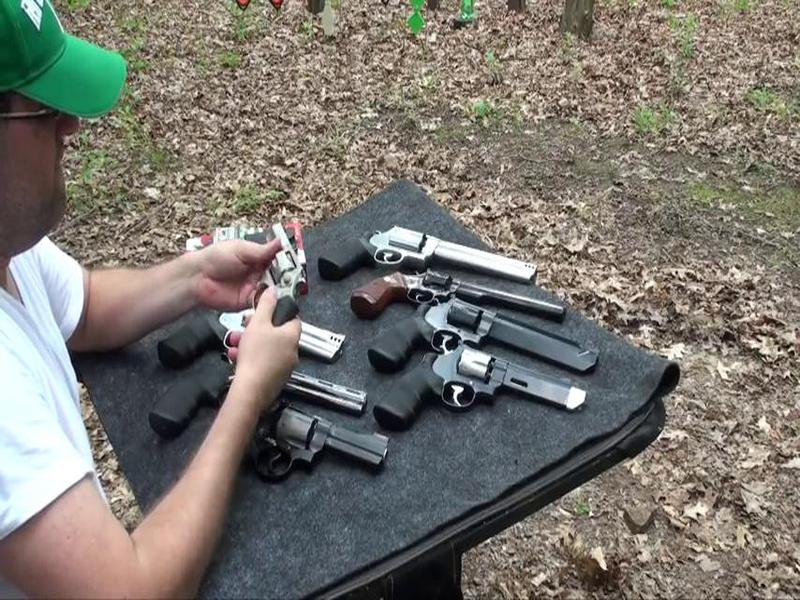Revolver: (351, 299, 607, 381)
